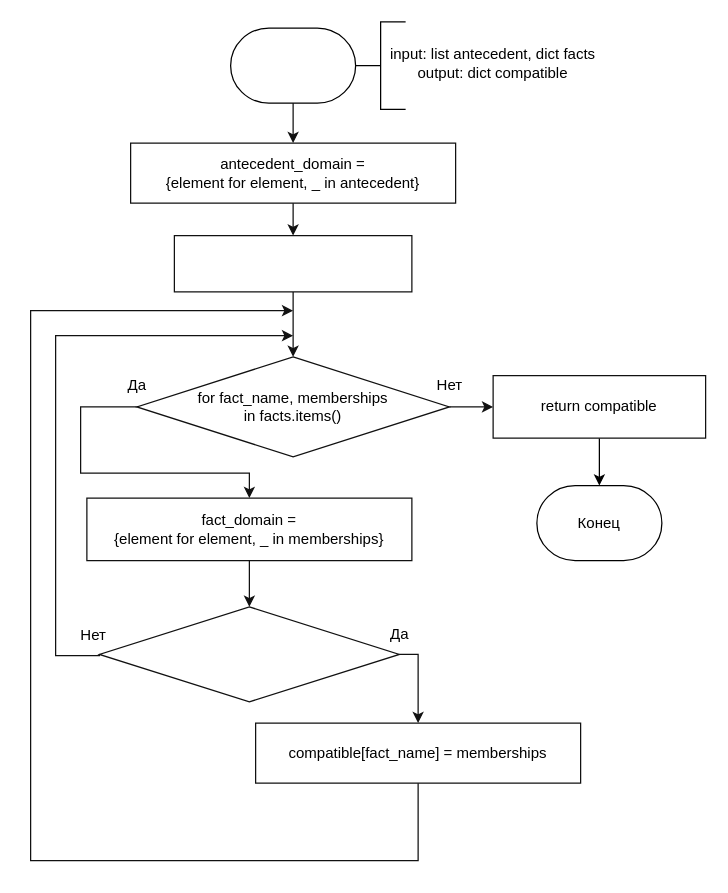
Some shapes in this 728 by 893 pixel diagram are drawn without their labels. Each missing label, with the centre of its shape:
compatible = {}: point (292, 263)
fact_domain == antecedent_domain: point (248, 654)
Начало: point (292, 65)
